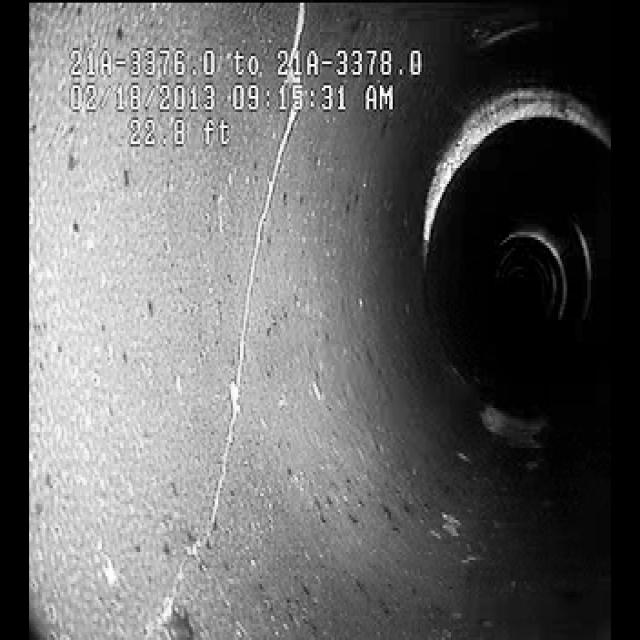Crack: (178, 162, 302, 594)
